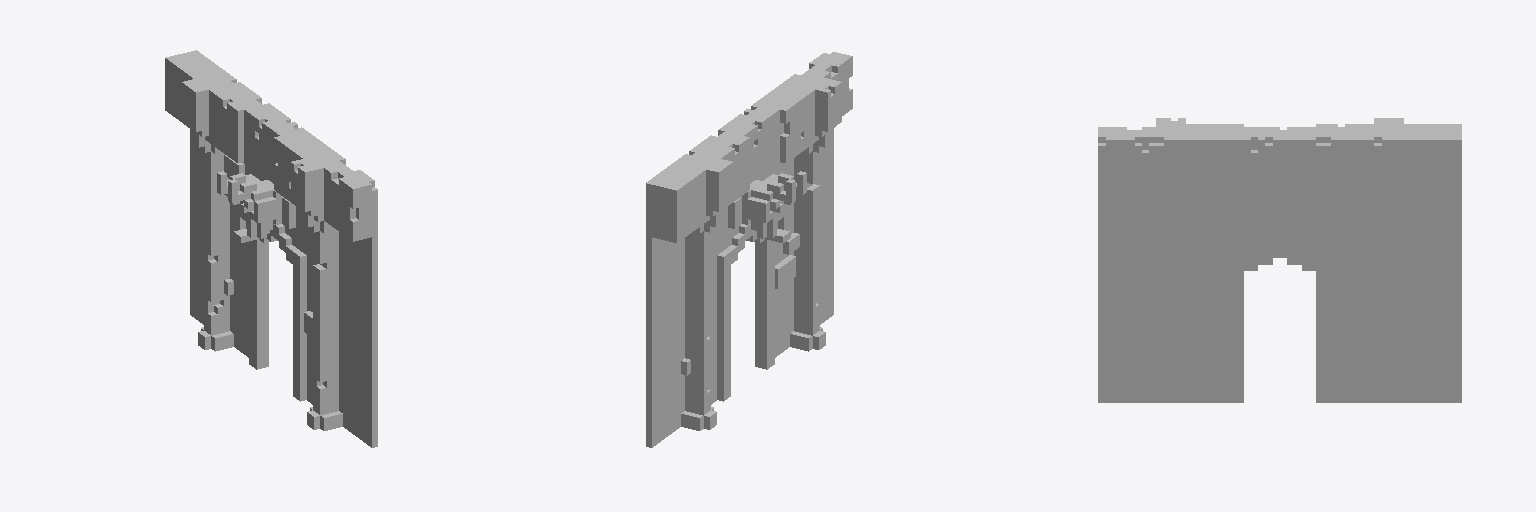
File: Wall_BossDoor.obj
3 views of the same model, side by side, from view 1: azimuth 30°, elevation 25°; view 2: azimuth 150°, elevation 25°; view 3: azimuth 270°, elevation 25° (orthographic).
Visible parts, largest first — view 1: Wall_BossDoor; view 2: Wall_BossDoor; view 3: Wall_BossDoor.
Boxes of the visible parts, box(x1,y1,x2,y2) form: Wall_BossDoor: box(165, 50, 377, 447); Wall_BossDoor: box(646, 52, 852, 447); Wall_BossDoor: box(1098, 118, 1461, 402).
Bounding box in the file's own units: 1 × 4 × 5.